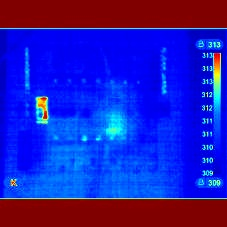Medium: (33, 98, 51, 127)
